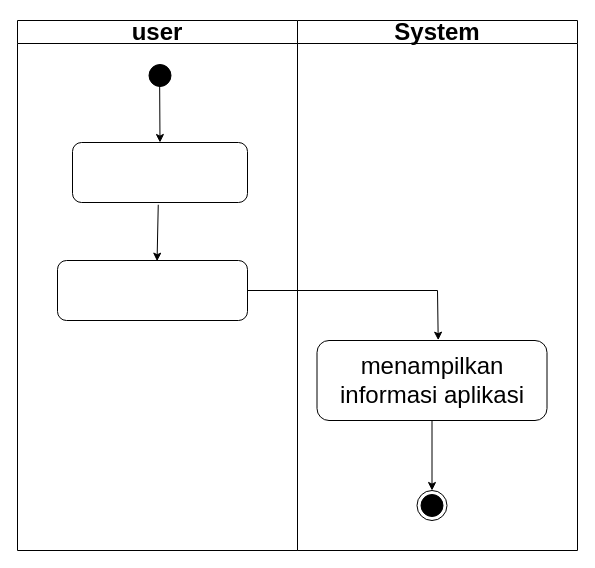
This 595x568 diagram has some shape labels left out. Here are the shapes that lost their labels. From the top down, the centre of each, then its label:
At (x=160, y=172): "Navigasi profile".
At (x=152, y=290): "Tentang aplikasi".
